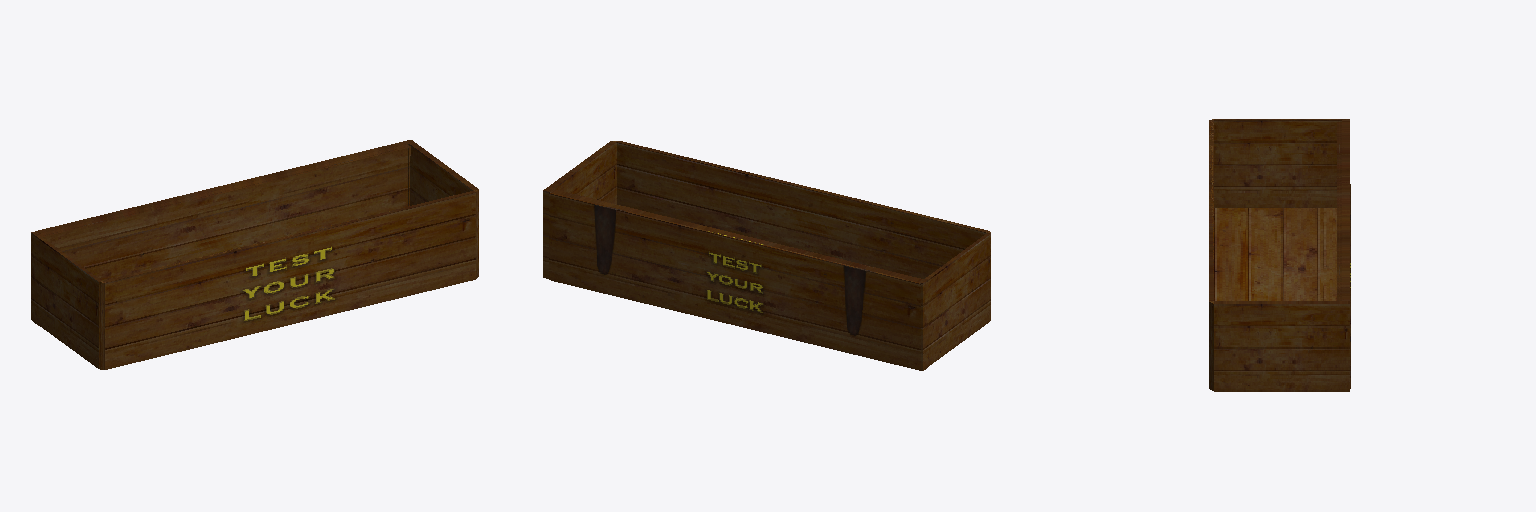
The picture shows the model from 3 angles: view 1: azimuth 30°, elevation 25°; view 2: azimuth 150°, elevation 25°; view 3: azimuth 270°, elevation 25°; orthographic projection.
Visible parts, largest first — view 1: Cube.1; view 2: Cube.1; view 3: Cube.1.
Part boxes in pixels (left/top/right/bottom): Cube.1: left=31, top=140, right=478, bottom=369; Cube.1: left=543, top=141, right=990, bottom=370; Cube.1: left=1209, top=119, right=1350, bottom=391.
Size of the model in its own units: 664 by 149 by 214.
1 materials, 1 textured.